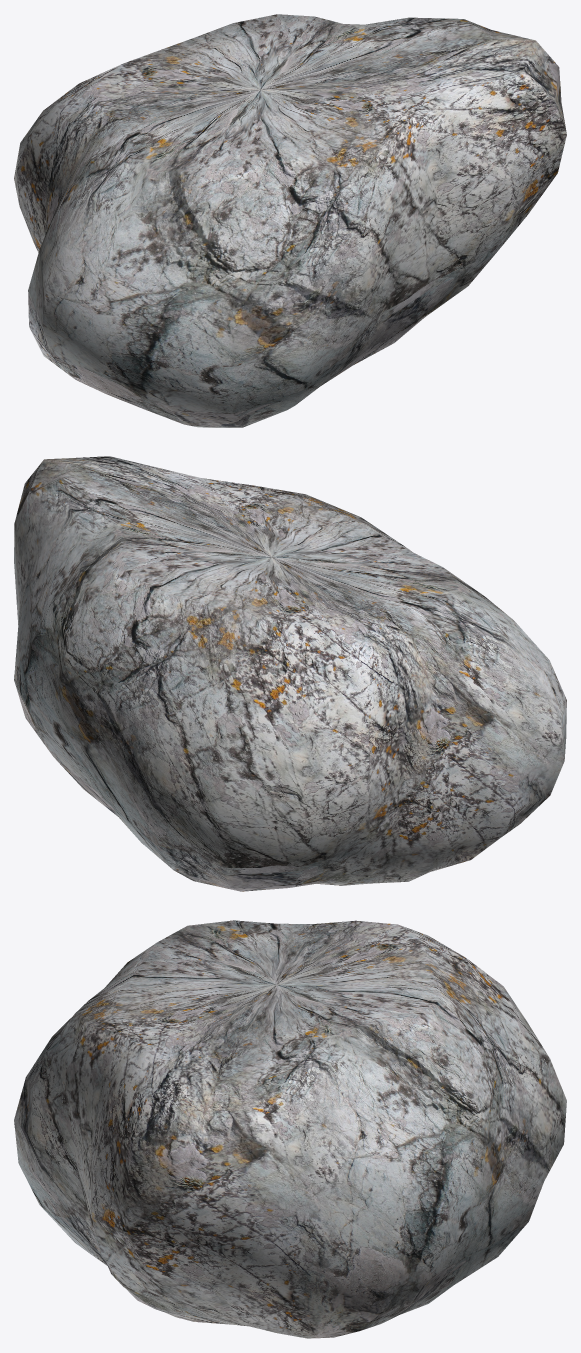
Rendered from granite_boulder.gltf.
3 views of the same model, one above another, from view 1: azimuth 30°, elevation 25°; view 2: azimuth 150°, elevation 25°; view 3: azimuth 270°, elevation 25° (orthographic). The views are drawn at different scales.
Size of the model in its own units: 3.46 by 1.97 by 2.7.
Materials: 1 (1 with a texture image).
